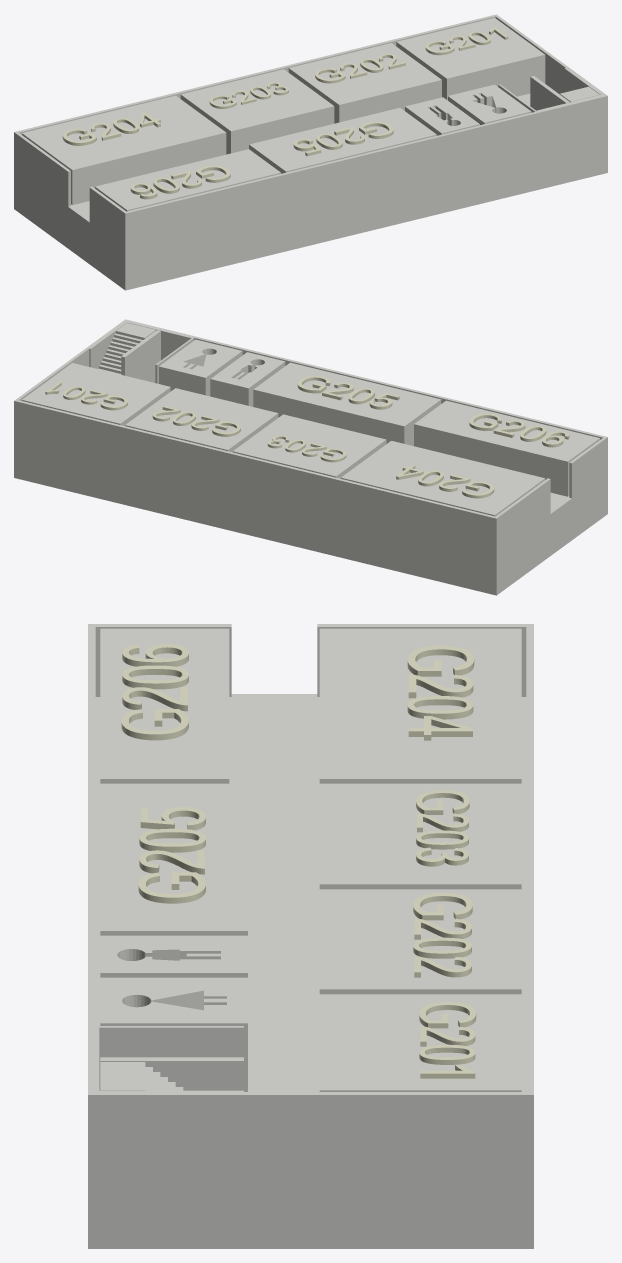
Rendered from Edificio G - Entrepiso.obj.
The picture shows the model from 3 angles, top to bottom: view 1: azimuth 30°, elevation 25°; view 2: azimuth 150°, elevation 25°; view 3: azimuth 270°, elevation 25°; orthographic projection. The views are drawn at different scales.
Visible parts, largest first — view 1: G_Entrepiso_Base_Profunda, G_Entrepiso_Borde_Sur, G204, G201, G203, G202, G205, G206, G_Entrepiso_Borde_Oeste_Norte, Mesh11_Group2_Model, G_Entrepiso_Borde_Norte, Mesh42_Model (+10 smaller); view 2: G_Entrepiso_Base_Profunda, G_Entrepiso_Borde_Norte, G206, G205, G204, G203, G202, G201, Mesh11_Group2_Model, Mesh42_Model, G_Entrepiso_Borde_Oeste_Norte, G_Entrepiso_Borde_Sur (+12 smaller); view 3: G_Entrepiso_Base_Profunda, G_Entrepiso_Borde_Este, G204, G203, G205, G202, G201, G206, Mesh11_Group2_Model, Mesh42_Model, G206_Texto, G_Entrepiso_Escalera_Muro_Lateral_Izquierdo (+11 smaller).
Boxes of the visible parts, x1=… form: G_Entrepiso_Base_Profunda: x1=14, y1=93, x2=607, y2=290; G_Entrepiso_Borde_Sur: x1=123, y1=94, x2=607, y2=248; G204: x1=22, y1=95, x2=226, y2=204; G201: x1=396, y1=18, x2=545, y2=100; G203: x1=180, y1=69, x2=334, y2=154; G202: x1=288, y1=43, x2=441, y2=123; G205: x1=249, y1=107, x2=436, y2=173; G206: x1=95, y1=149, x2=280, y2=211; G_Entrepiso_Borde_Oeste_Norte: x1=16, y1=132, x2=70, y2=206; Mesh11_Group2_Model: x1=448, y1=84, x2=531, y2=125; G_Entrepiso_Borde_Norte: x1=14, y1=14, x2=497, y2=168; Mesh42_Model: x1=405, y1=97, x2=479, y2=135; G_Entrepiso_Base_Profunda: x1=14, y1=436, x2=607, y2=595; G_Entrepiso_Borde_Norte: x1=14, y1=399, x2=498, y2=553; G206: x1=414, y1=400, x2=599, y2=496; G205: x1=253, y1=362, x2=441, y2=445; G204: x1=341, y1=441, x2=545, y2=516; G203: x1=232, y1=414, x2=386, y2=478; G202: x1=125, y1=388, x2=278, y2=452; G201: x1=22, y1=363, x2=170, y2=425; Mesh11_Group2_Model: x1=159, y1=339, x2=242, y2=396; Mesh42_Model: x1=210, y1=352, x2=285, y2=406; G_Entrepiso_Borde_Oeste_Norte: x1=496, y1=478, x2=550, y2=551; G_Entrepiso_Borde_Sur: x1=124, y1=319, x2=607, y2=473; G_Entrepiso_Base_Profunda: x1=88, y1=694, x2=533, y2=1248; G_Entrepiso_Borde_Este: x1=95, y1=1092, x2=526, y2=1164; G204: x1=319, y1=628, x2=521, y2=783; G203: x1=319, y1=783, x2=521, y2=889; G205: x1=100, y1=783, x2=247, y2=935; G202: x1=319, y1=889, x2=521, y2=994; G201: x1=319, y1=994, x2=521, y2=1091; G206: x1=100, y1=628, x2=229, y2=783; Mesh11_Group2_Model: x1=100, y1=977, x2=247, y2=1091; Mesh42_Model: x1=100, y1=935, x2=247, y2=977; G206_Texto: x1=121, y1=644, x2=188, y2=740; G_Entrepiso_Escalera_Muro_Lateral_Izquierdo: x1=95, y1=1026, x2=243, y2=1090.
Size of the model in its own units: 3240 by 513 by 1296.
